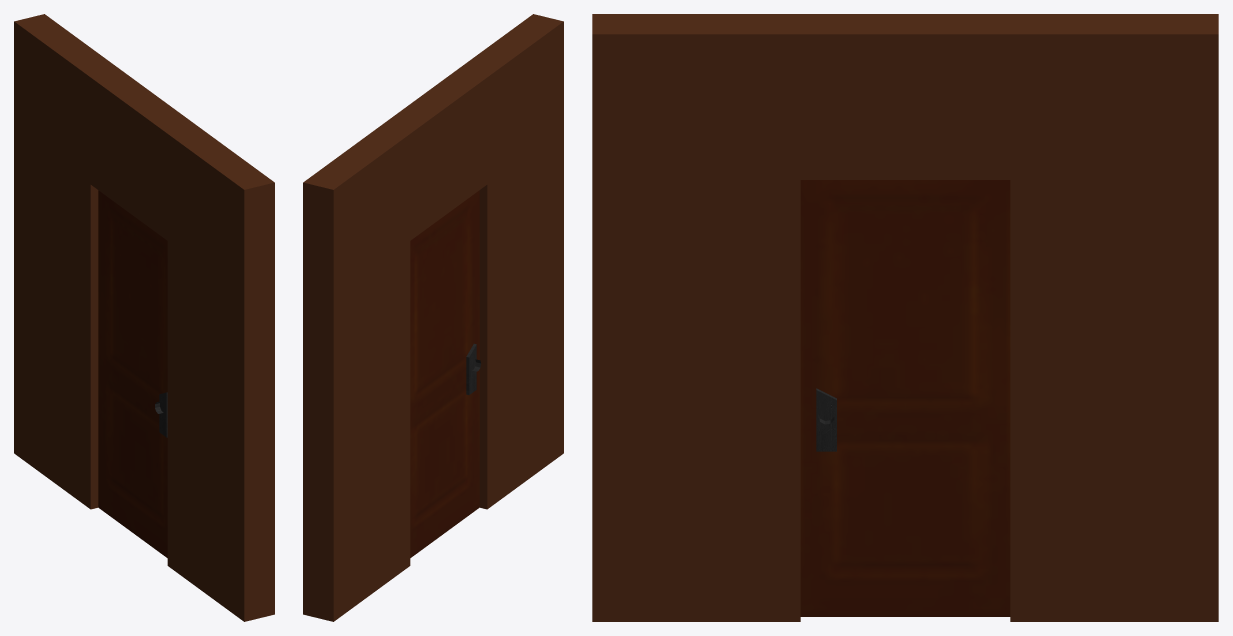
Rendered from drzwiasy.glb.
3 views of the same model, side by side, from view 1: azimuth 30°, elevation 25°; view 2: azimuth 150°, elevation 25°; view 3: azimuth 270°, elevation 25° (orthographic). The views are drawn at different scales.
Parts seen in each view (by area): view 1: Cube.007, Cube.010; view 2: Cube.007, Cube.010; view 3: Cube.007, Cube.010.
Part boxes in pixels (box(x1,y1,x2,y2)): Cube.007: box(14, 14, 274, 621); Cube.010: box(98, 190, 167, 557); Cube.007: box(303, 14, 563, 621); Cube.010: box(410, 190, 481, 557); Cube.007: box(592, 14, 1218, 621); Cube.010: box(800, 180, 1010, 616).
Size of the model in its own units: 0.1677 by 2.21 by 2.14.
Materials: 3 (2 with a texture image).
